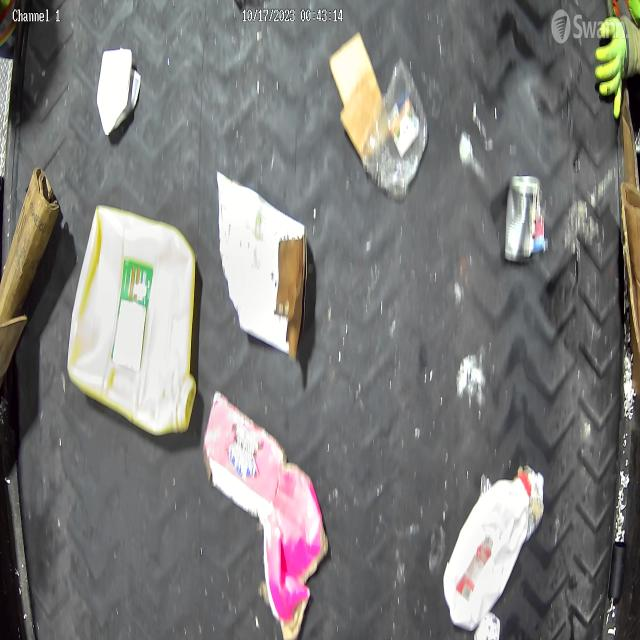can: (505, 174, 545, 262)
non_white_jug: (68, 205, 197, 435), (444, 471, 532, 631)
